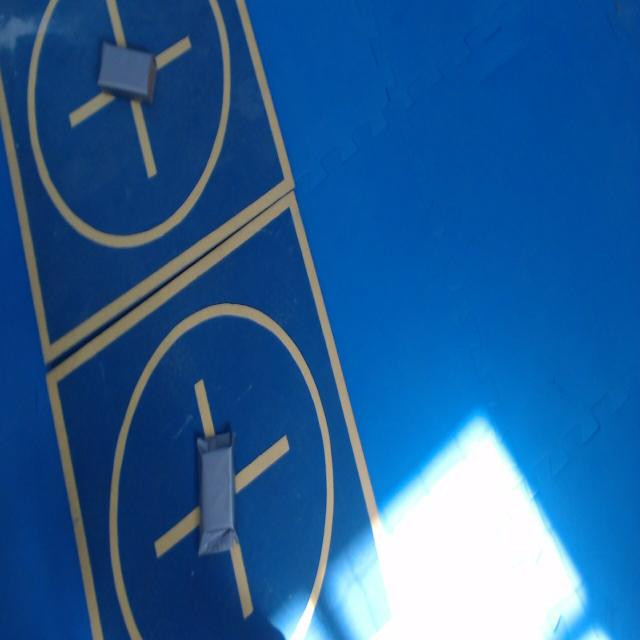esquerda: (98, 42, 156, 101)
vertical: (198, 432, 237, 554)
